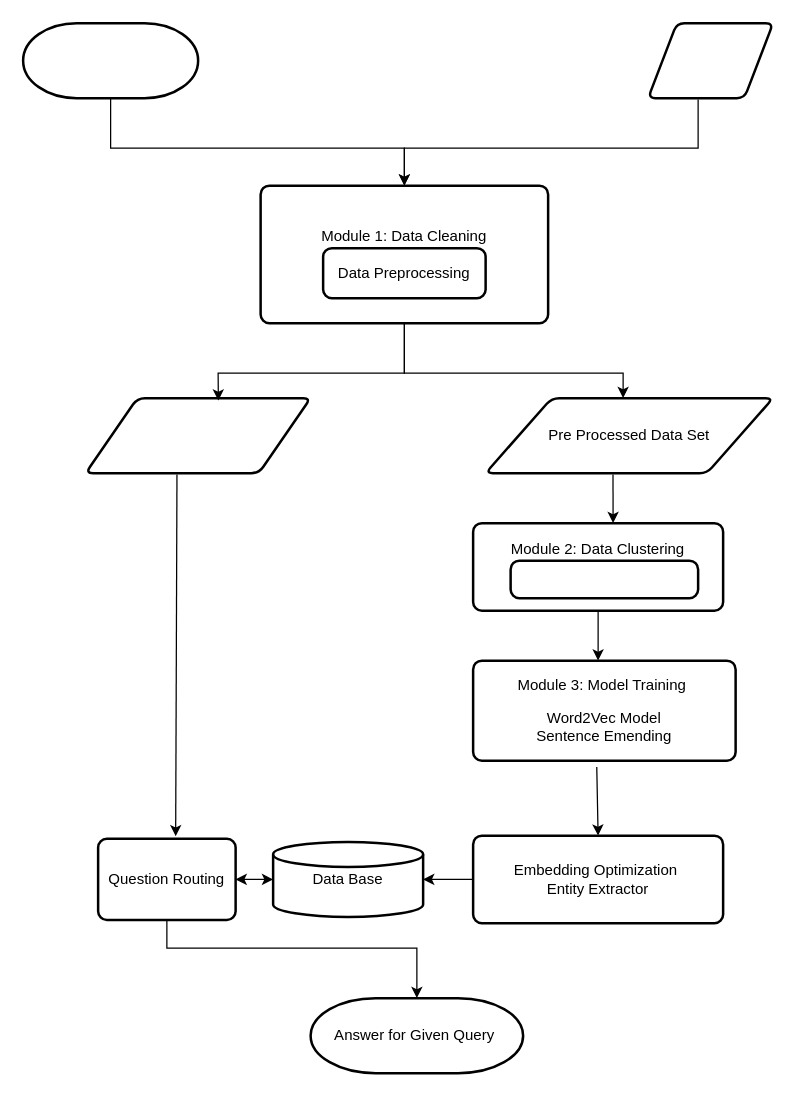
Some shapes in this 795 by 1095 pixel diagram are drawn without their labels. The centre of each missing label's shape, as x and y in pixels:
"Data Set" goes at pixel 710 60.
"Pre Processed Query" goes at pixel 197 435.
"Query Text" goes at pixel 110 60.
"Semantic based Clustering" goes at pixel 604 579.
